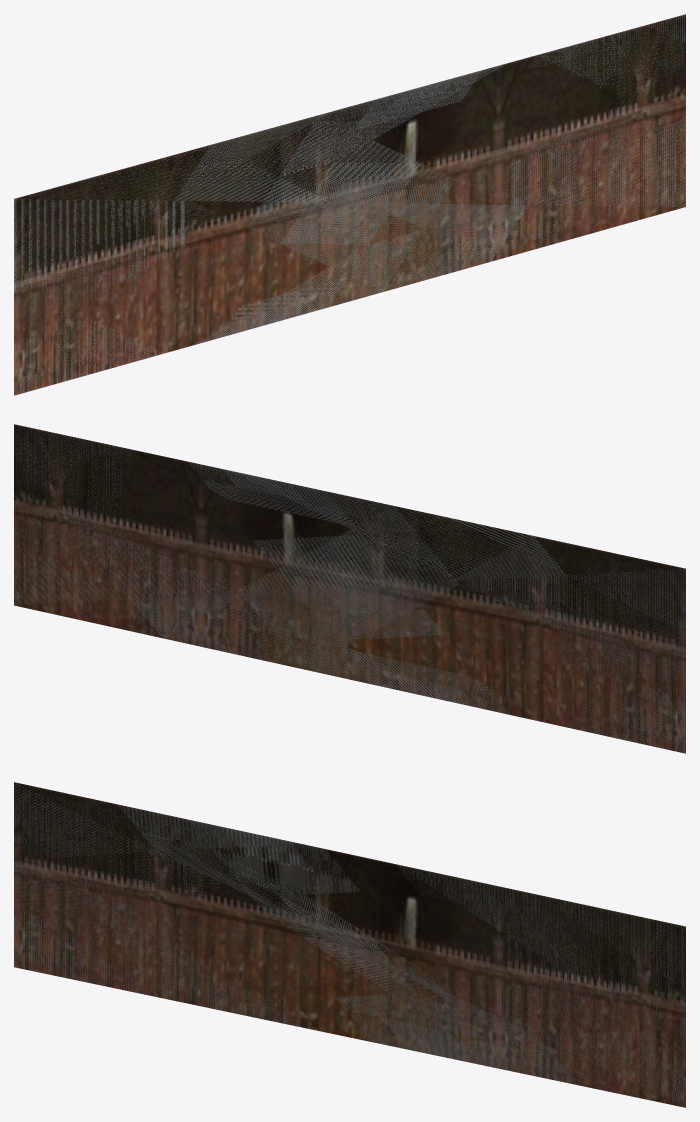
File: 西庸城堡639.dae
The picture shows the model from 3 angles, top to bottom: view 1: azimuth 30°, elevation 25°; view 2: azimuth 150°, elevation 25°; view 3: azimuth 330°, elevation 25°; orthographic projection. The views are drawn at different scales.
Visible parts, largest first — view 1: SketchUp; view 2: SketchUp; view 3: SketchUp.
Part boxes in pixels (x1=…): SketchUp: x1=14, y1=14, x2=685, y2=395; SketchUp: x1=14, y1=424, x2=685, y2=753; SketchUp: x1=14, y1=782, x2=685, y2=1107.
Bounding box in the file's own units: 356 × 18.89 × 96.49.
